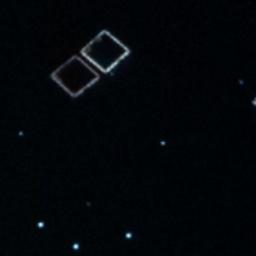square_solid: (75, 26, 135, 80), (49, 51, 104, 98)
